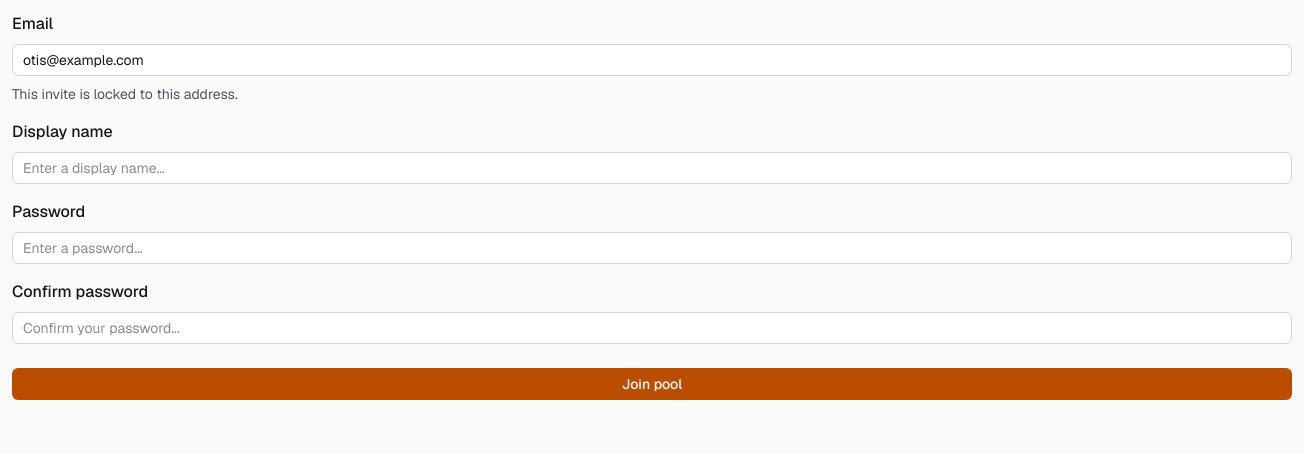
Test: auth forms › should reject @ in display names for new joins
Type "otis@friends" into the field labelled "Display name" at (652, 168), box [12, 152, 1292, 184]
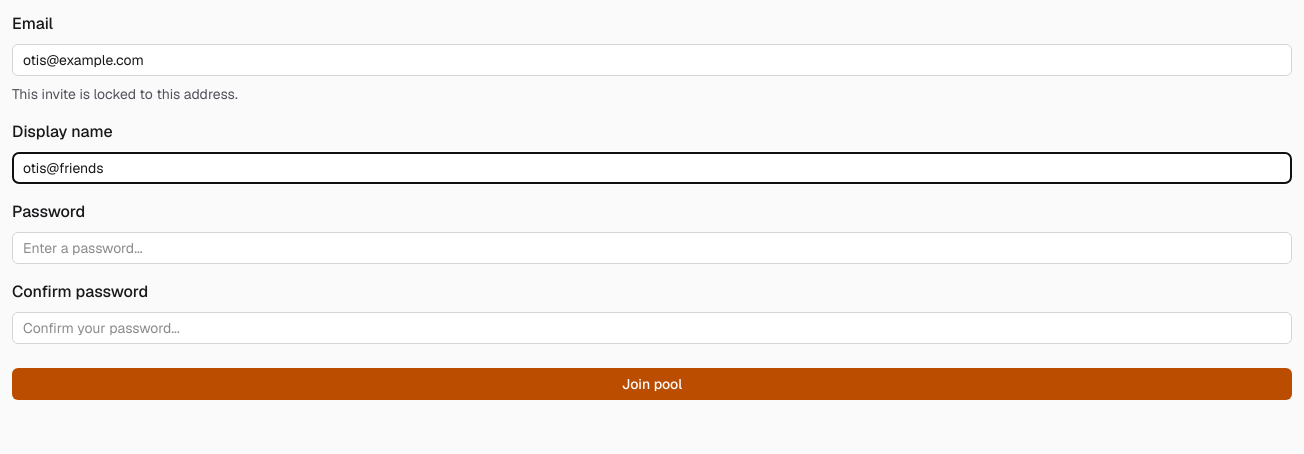
Type "password1" into the password field labelled "Password" at (652, 248), box [12, 232, 1292, 264]
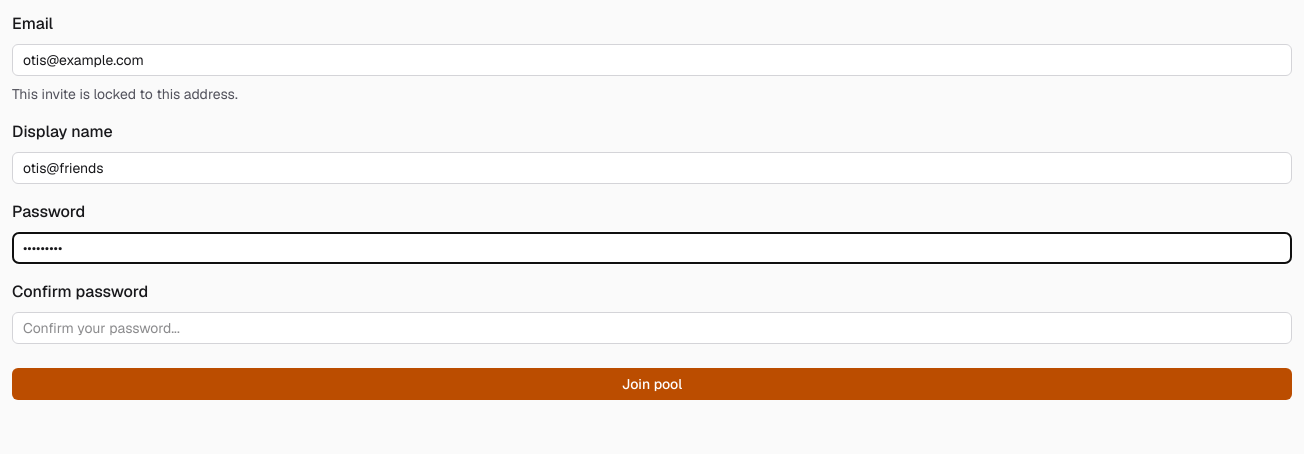
Type "password1" into the password field labelled "Confirm password" at (652, 328), box [12, 312, 1292, 344]
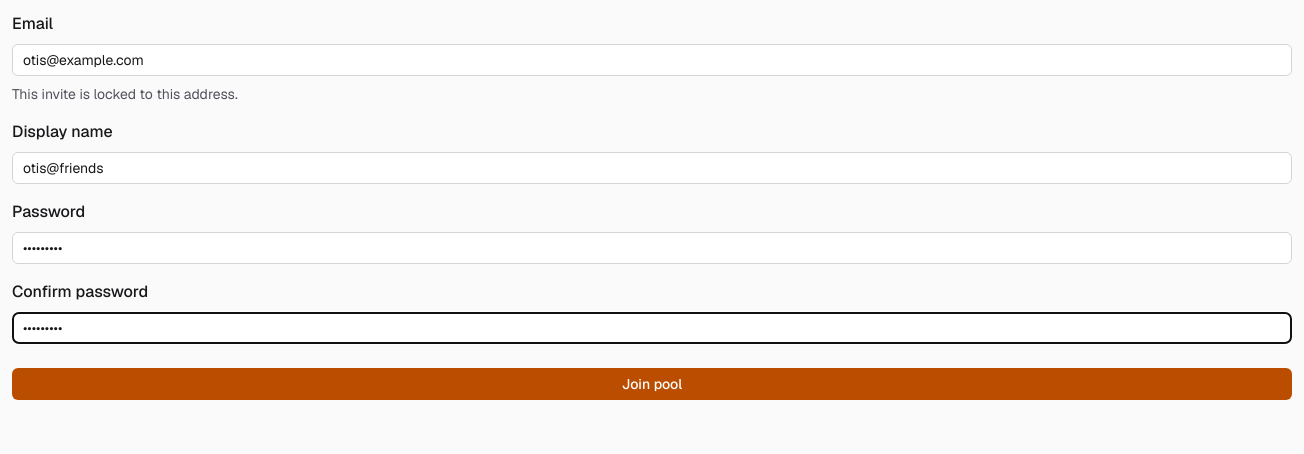
Click the button "Join pool" at (652, 384), box [12, 368, 1292, 400]
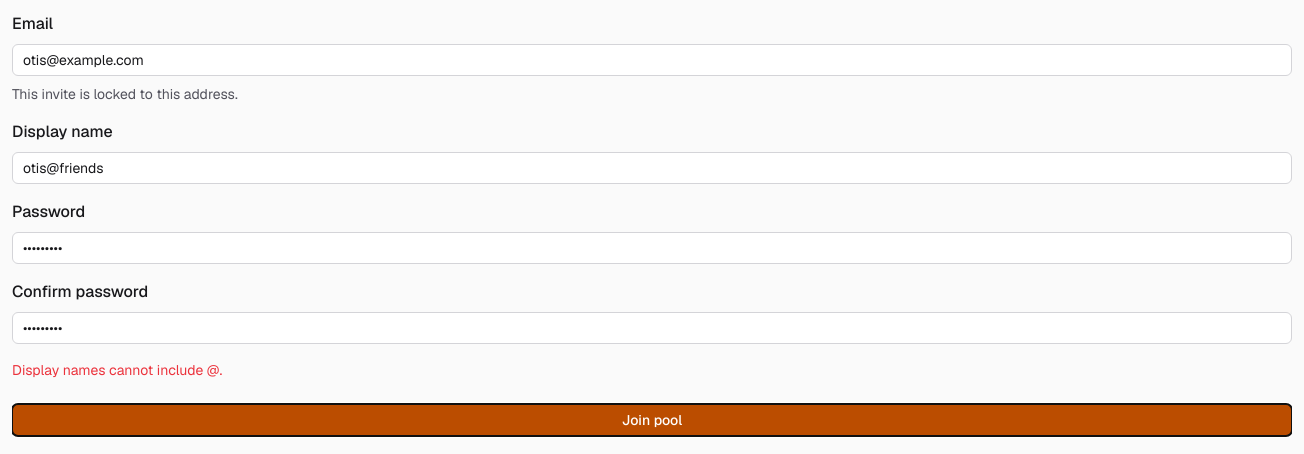
Now the message reads "Display names cannot include @.", box [12, 361, 222, 379]
